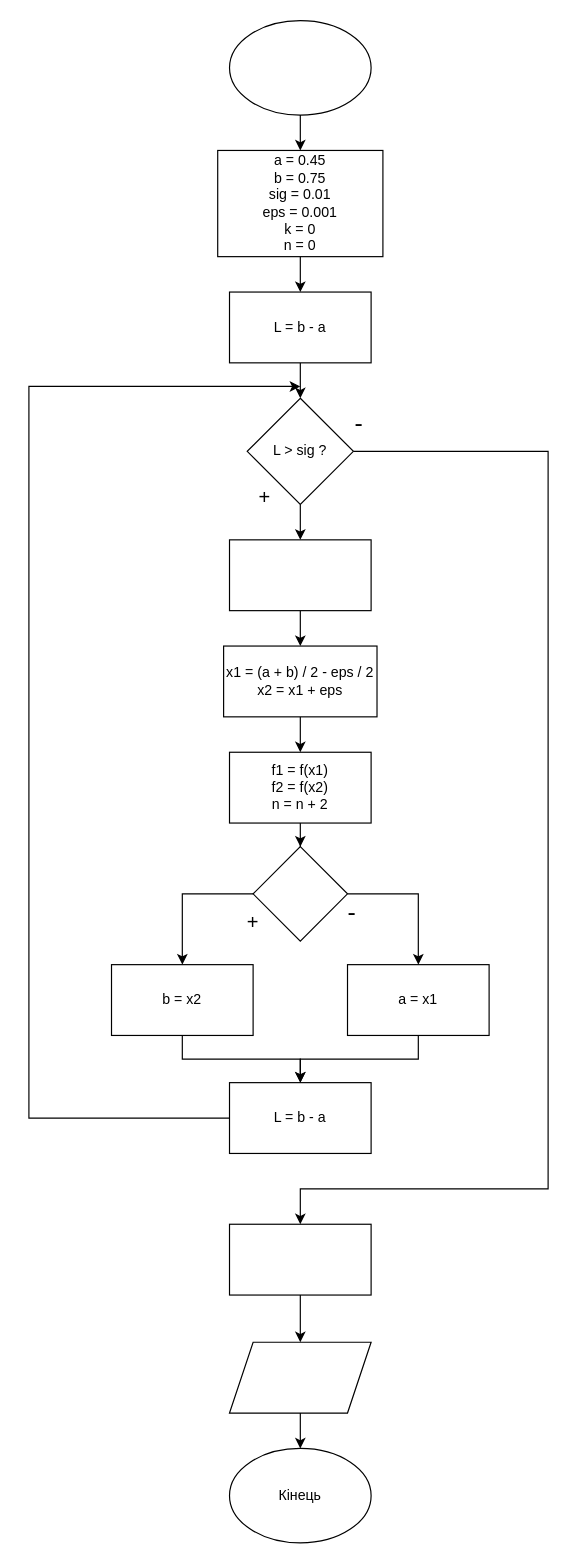
Some shapes in this 578 by 1563 pixel diagram are drawn without their labels. The box of each missing label's shape, as (x1, y1, x2, y2) in pixels:
f1 < f2 ?: (252, 845, 348, 941)
k = k + 1: (228, 539, 371, 611)
x = (a + b) / 2: (228, 1223, 371, 1295)
x*, f(x*), n: (228, 1341, 371, 1413)
Початок: (228, 19, 371, 115)
